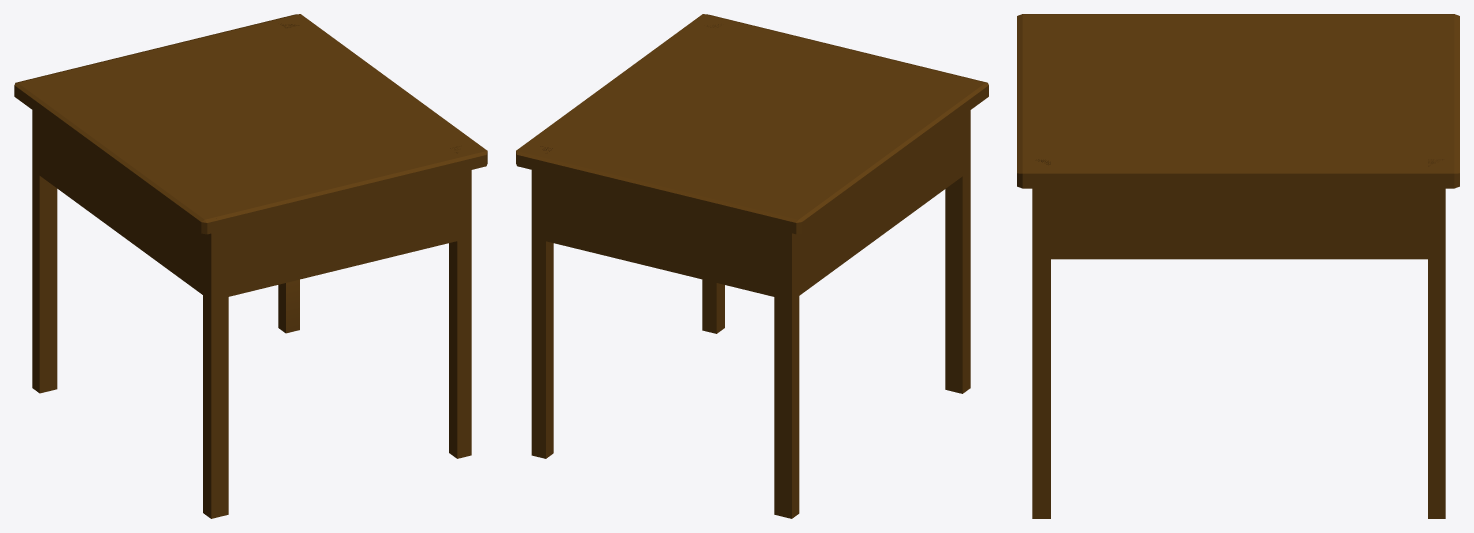
The model's file is SM_Desk.fbx.
3 renders of one model, left to right at view 1: azimuth 30°, elevation 25°; view 2: azimuth 150°, elevation 25°; view 3: azimuth 270°, elevation 25°, orthographic. The views are drawn at different scales.
Parts seen in each view (by area): view 1: SM_Escrivaninha; view 2: SM_Escrivaninha; view 3: SM_Escrivaninha.
Part boxes in pixels (x1=…): SM_Escrivaninha: x1=14, y1=14, x2=487, y2=518; SM_Escrivaninha: x1=516, y1=14, x2=988, y2=518; SM_Escrivaninha: x1=1017, y1=14, x2=1459, y2=518.
Size of the model in its own units: 98.06 by 99.77 by 114.
